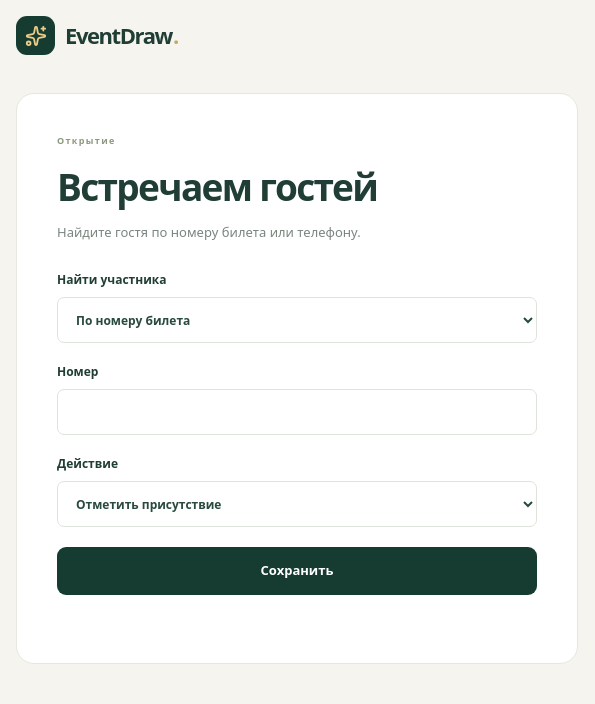
Test case: staff check-in › cancels attendance by phone
Select "По телефону" in the dropdown labelled "Найти участника" at (297, 320), box [57,298,537,344]
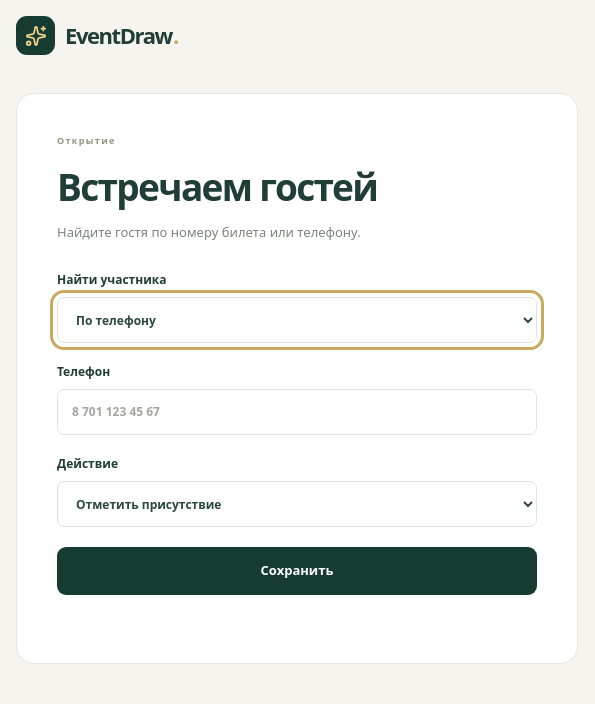
Type "+77011234567" into the field labelled "Телефон" at (297, 412), box [57,390,537,436]
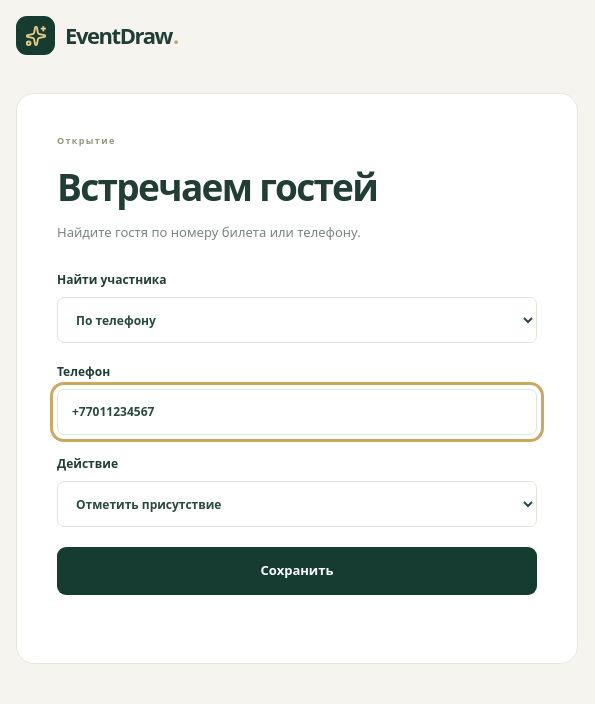
Select "Отменить отметку присутствия" in the dropdown labelled "Действие" at (297, 504), box [57,482,537,528]
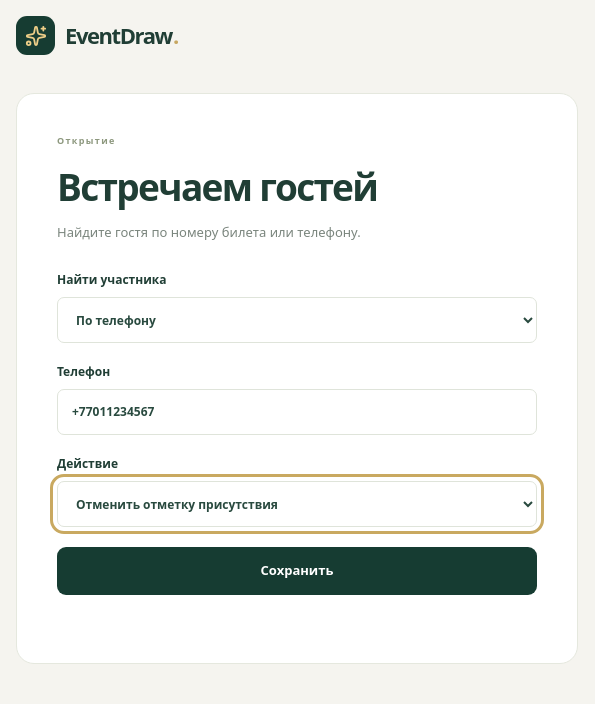
Click the button "Сохранить" at (297, 571), box [57,548,537,595]
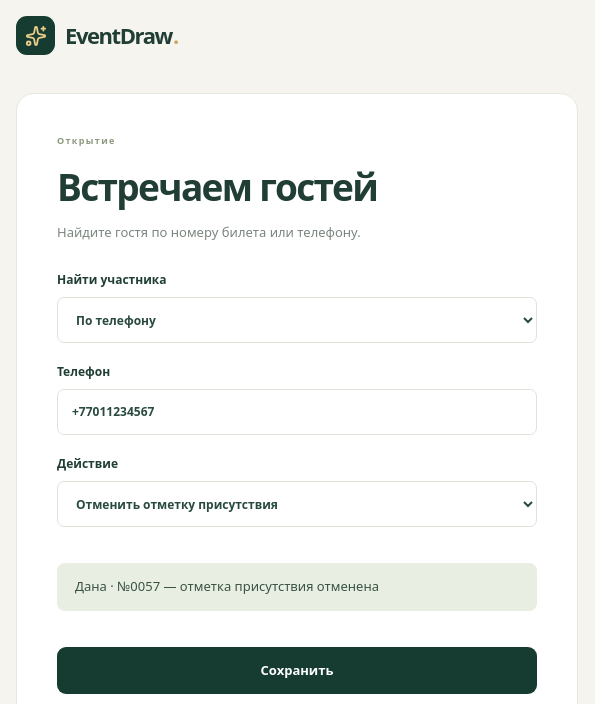
Expected: the text "Дана · №0057 — отметка присутствия отменена" is shown, [57,564,537,611]
